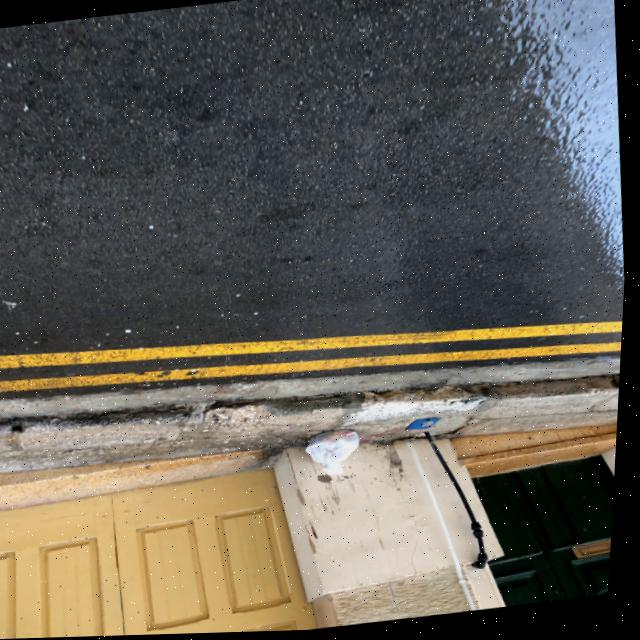Organic Waste -White Bag-: (305, 431, 370, 483)
